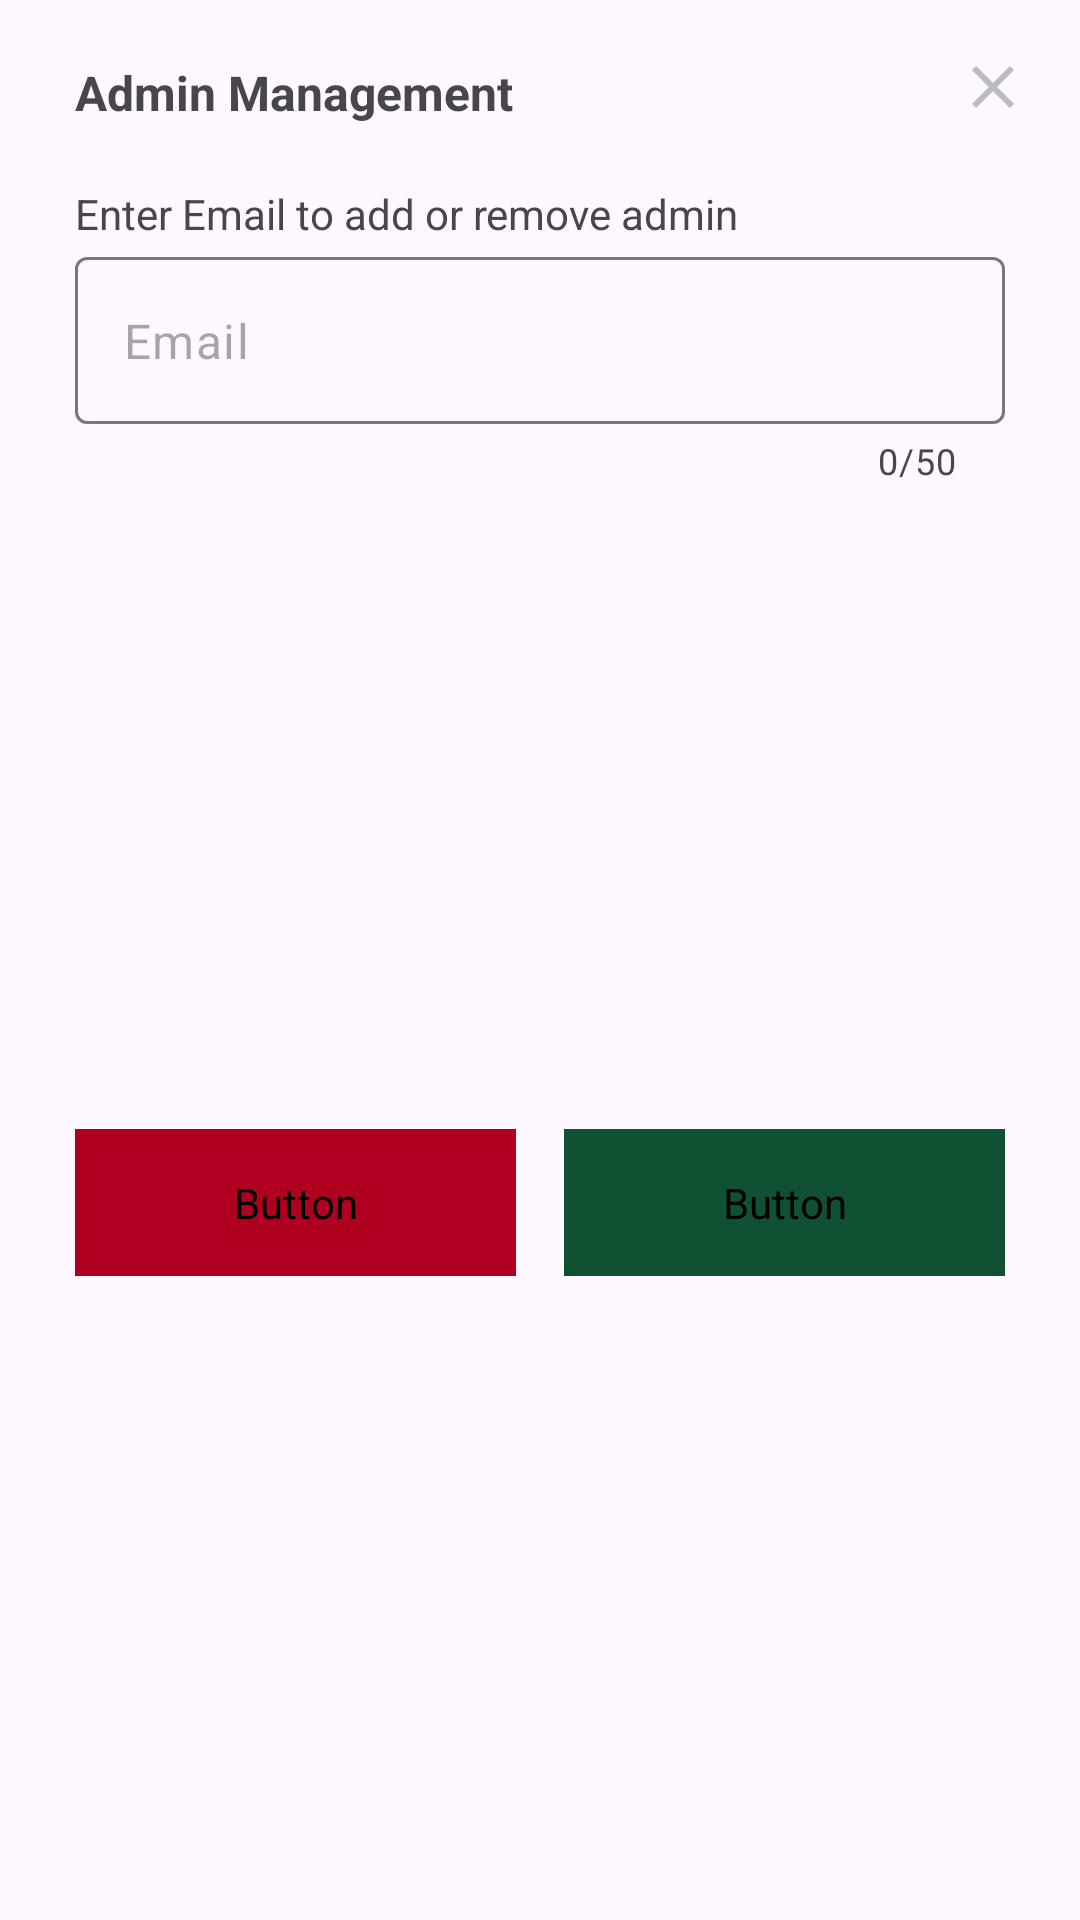

Named icons in this screenshot (1080x1920) and their bounding boxes, (x1, y1, x2, y2):
close: (972, 66, 1014, 108)
